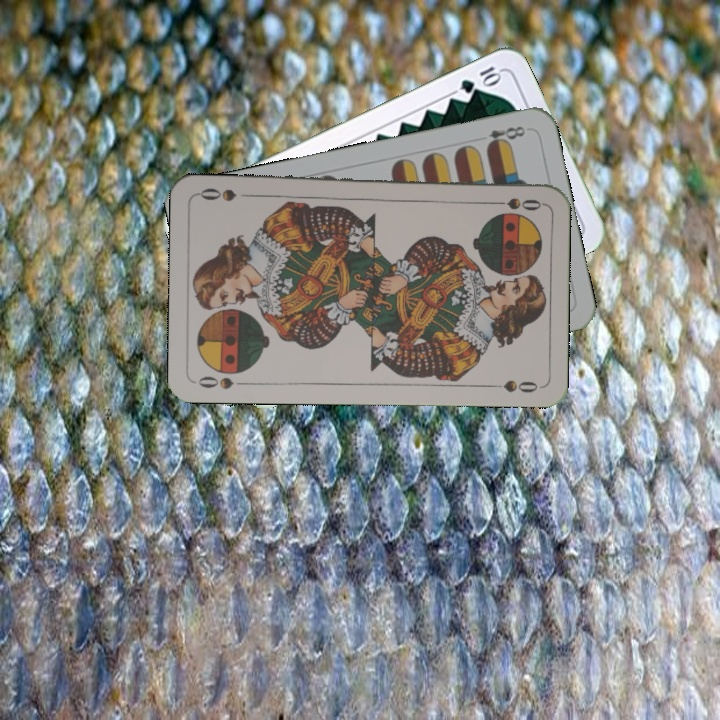E8: (482, 122, 528, 151)
G10: (456, 62, 504, 96)
SO: (194, 372, 251, 392), (485, 194, 544, 213)
